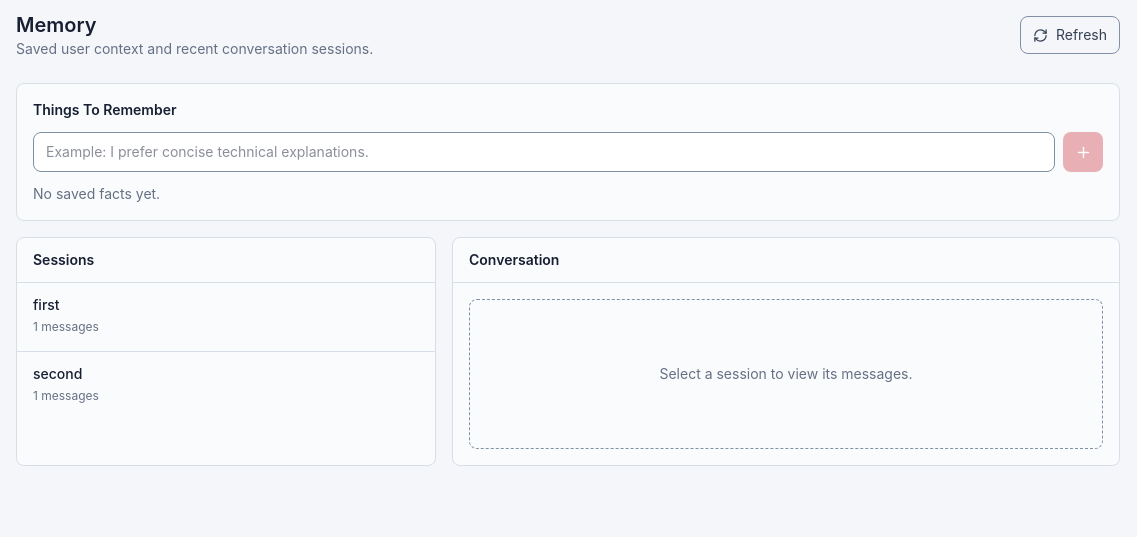
Scenario: reports a failed memory write and retains the draft
The width and height of the screenshot is (1137, 537).
Type "Keep this draft" into the field with placeholder "Example: I prefer concise technical explanations." at (544, 152), box [33,132,1055,172]
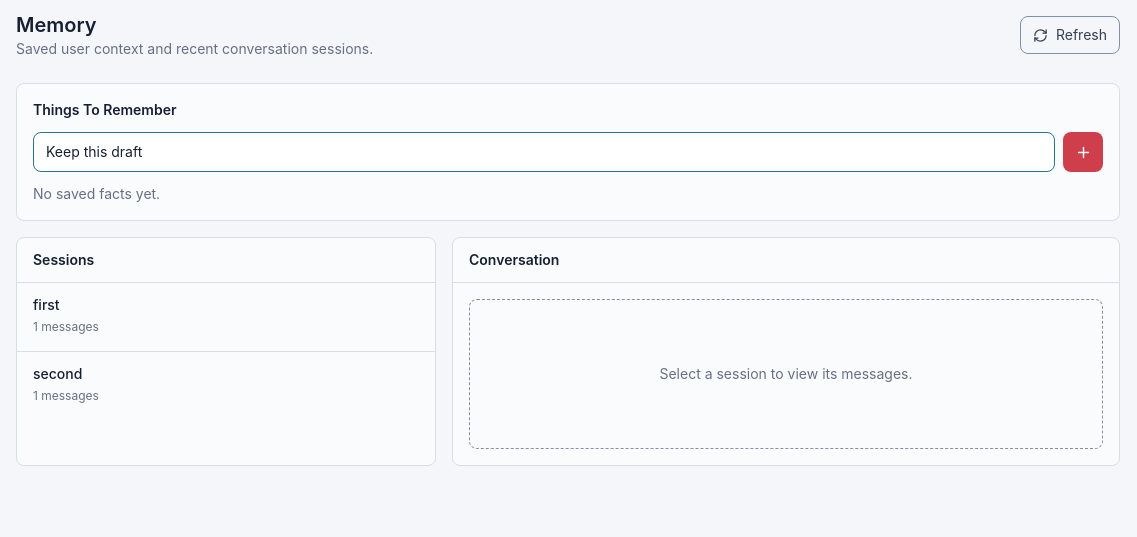
Click the button named "Add memory" at (1083, 152), box [1063,132,1103,172]
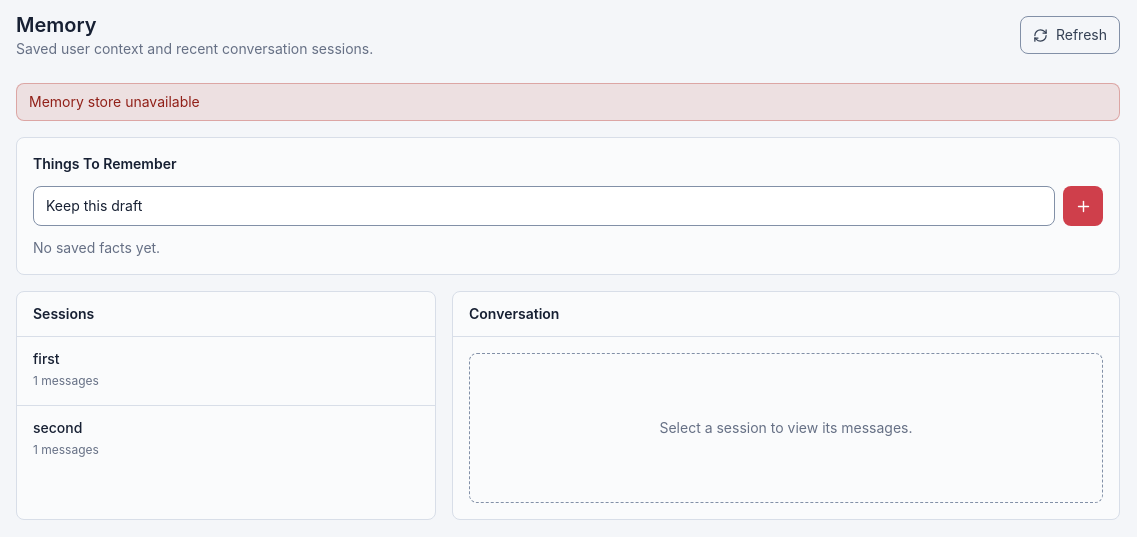
Check: the message reads "Memory store unavailable", box [29,93,200,110]
